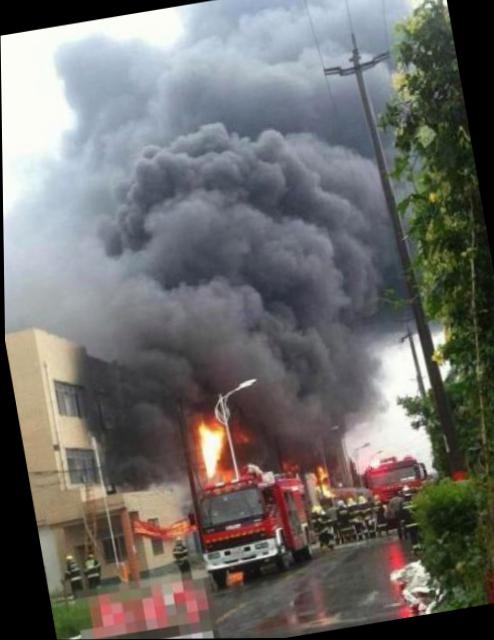fire: (196, 418, 233, 479), (317, 464, 330, 495)
smoke: (0, 0, 447, 319), (91, 241, 456, 422), (256, 377, 409, 465)
